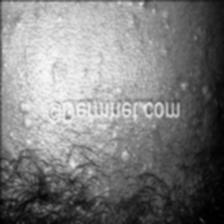Toxin: (183, 1, 224, 105), (14, 0, 91, 35), (124, 0, 174, 48), (12, 96, 48, 160), (96, 128, 144, 164)
